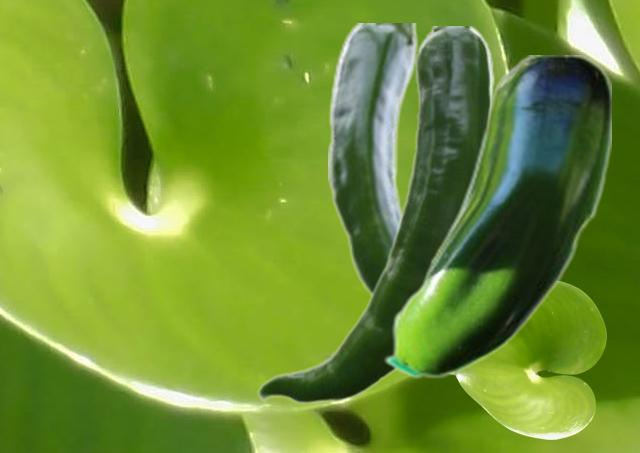green_chili: (256, 26, 494, 404), (382, 55, 610, 379), (328, 23, 422, 297)
